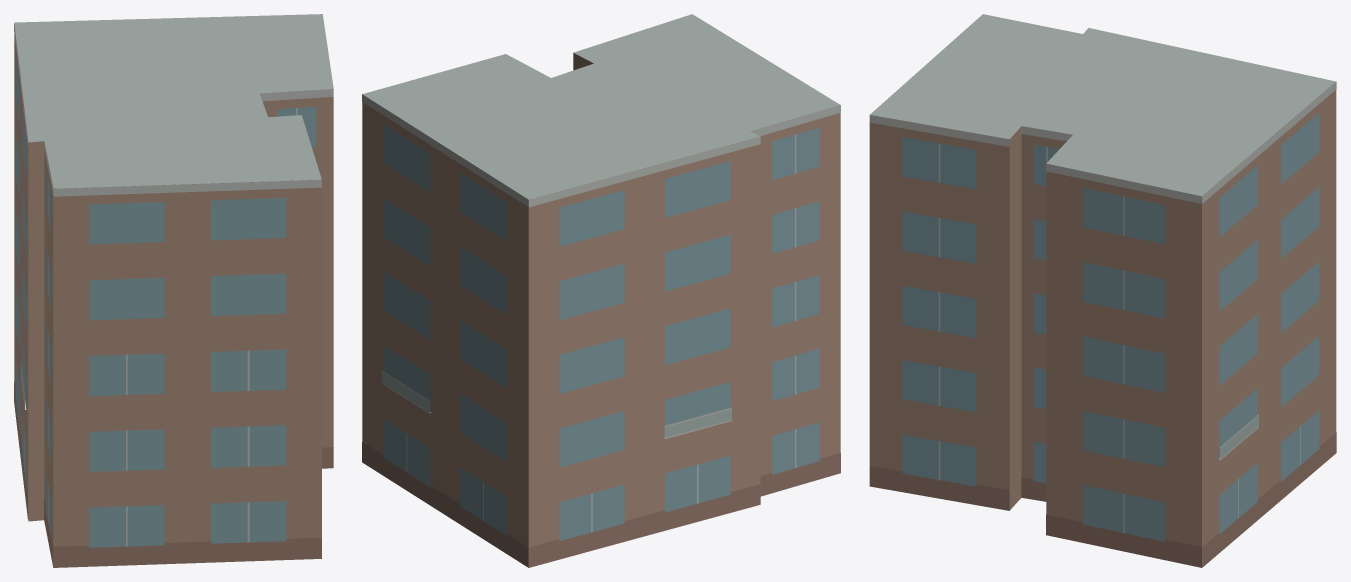
The model's file is survey-upis-32783931.glb.
3 renders of one model, left to right at view 1: azimuth 30°, elevation 25°; view 2: azimuth 150°, elevation 25°; view 3: azimuth 270°, elevation 25°, orthographic. The views are drawn at different scales.
Visible parts, largest first — view 1: survey-upis-32783931.tmp; view 2: survey-upis-32783931.tmp; view 3: survey-upis-32783931.tmp.
Boxes of the visible parts, x1,y1,x2,y2 form: survey-upis-32783931.tmp: (14, 14, 333, 567); survey-upis-32783931.tmp: (362, 14, 840, 567); survey-upis-32783931.tmp: (869, 14, 1336, 567).
Size of the model in its own units: 12.32 by 11.7 by 13.33.
